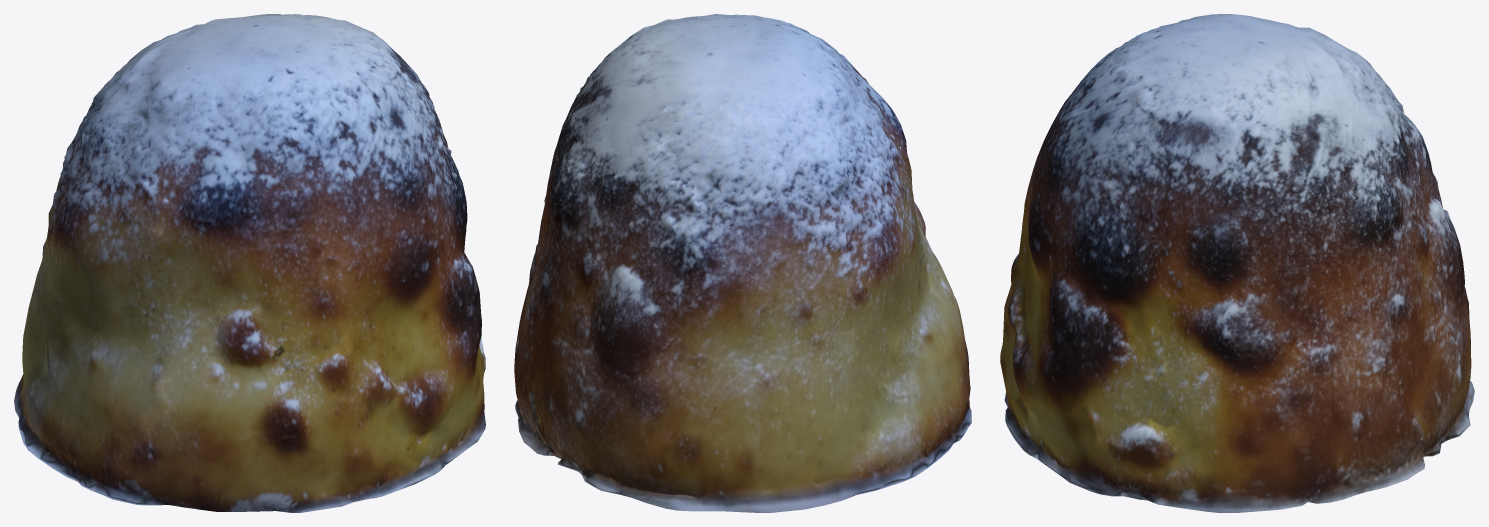
Rendered from pastavergine_low.fbx.
The picture shows the model from 3 angles, left to right: view 1: azimuth 30°, elevation 25°; view 2: azimuth 150°, elevation 25°; view 3: azimuth 270°, elevation 25°; orthographic projection. The views are drawn at different scales.
Parts seen in each view (by area): view 1: mainMeshNode; view 2: mainMeshNode; view 3: mainMeshNode.
Part boxes in pixels (left/top/right/bottom): mainMeshNode: left=14, top=14, right=485, bottom=512; mainMeshNode: left=514, top=14, right=971, bottom=512; mainMeshNode: left=1000, top=14, right=1474, bottom=512.
Bounding box in the file's own units: 22.88 × 20.29 × 22.95.
Materials: 1 (1 with a texture image).
